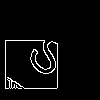S: (24, 24, 80, 81)
